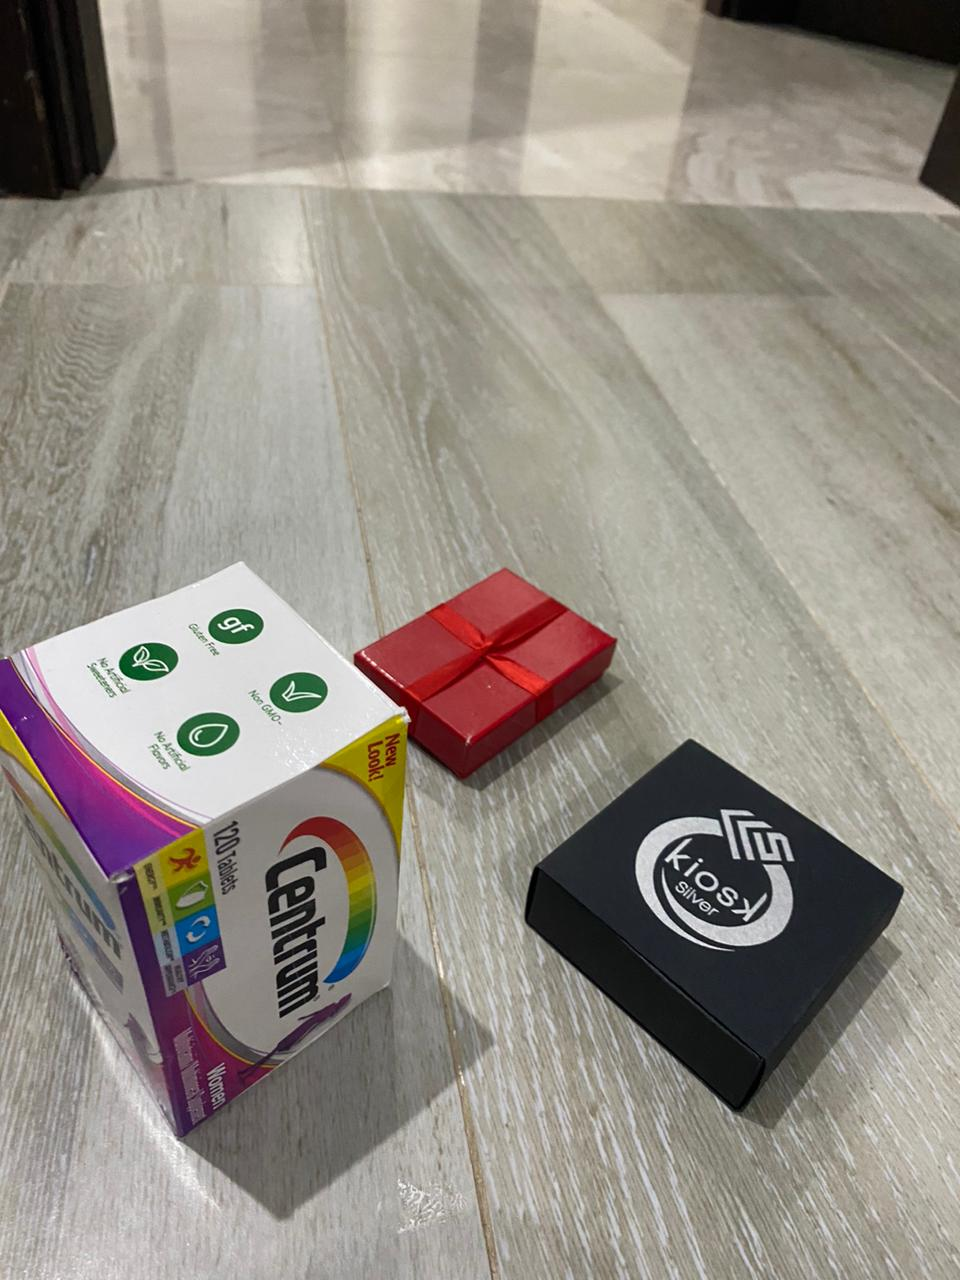Black Box: (351, 565, 628, 783)
Centrum: (12, 556, 419, 1138)
Red Box: (519, 733, 912, 1118)
